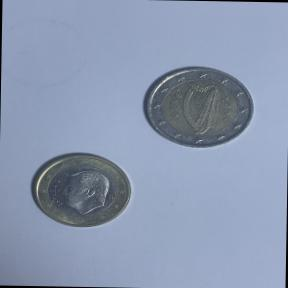coin: (139, 63, 258, 152), (26, 150, 138, 232)
